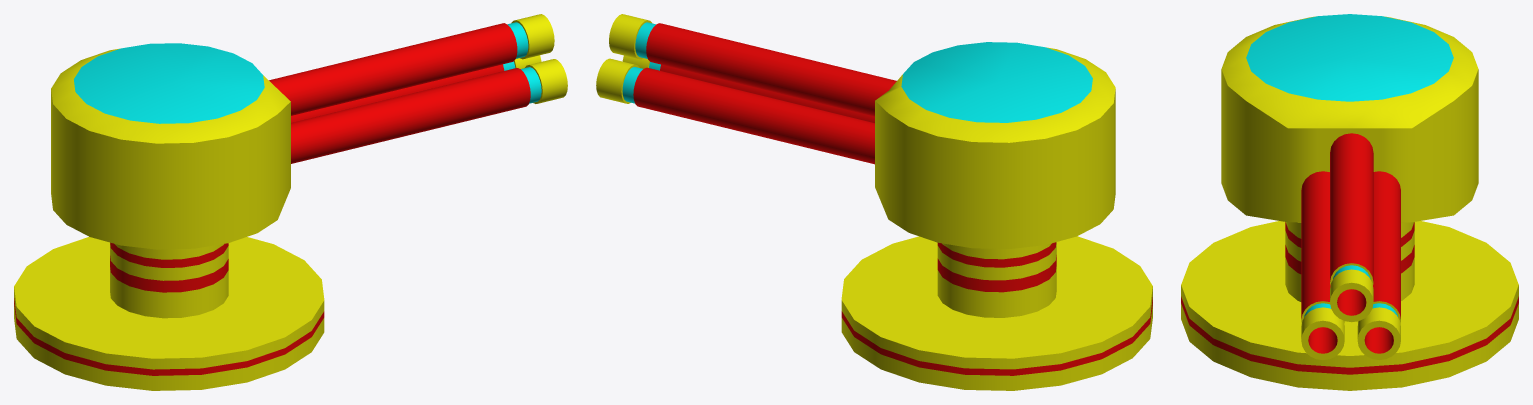
File: arma2.fbx
3 renders of one model, left to right at view 1: azimuth 30°, elevation 25°; view 2: azimuth 150°, elevation 25°; view 3: azimuth 270°, elevation 25°, orthographic. The views are drawn at different scales.
Parts seen in each view (by area): view 1: polySurface1; view 2: polySurface1; view 3: polySurface1.
Boxes of the visible parts, x1,y1,x2,y2 form: polySurface1: (14,14,567,390); polySurface1: (596,14,1152,390); polySurface1: (1181,14,1518,390).
Bounding box in the file's own units: 37.84 × 17.11 × 20.
